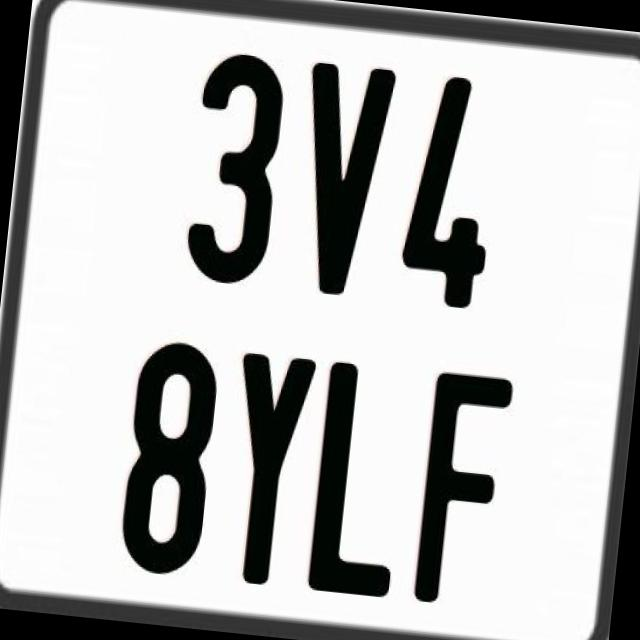3: (178, 51, 284, 290)
4: (396, 68, 511, 316)
8: (112, 338, 222, 581)
F: (411, 368, 519, 608)
L: (302, 359, 413, 601)
V: (288, 62, 402, 307)
Y: (215, 347, 315, 586)
